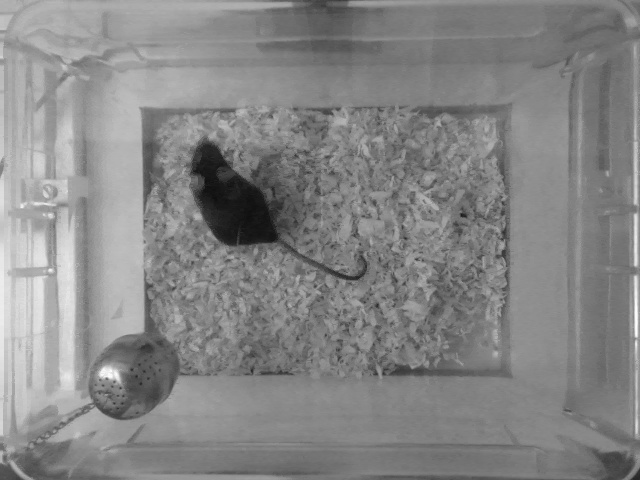mice: (186, 134, 369, 279)
